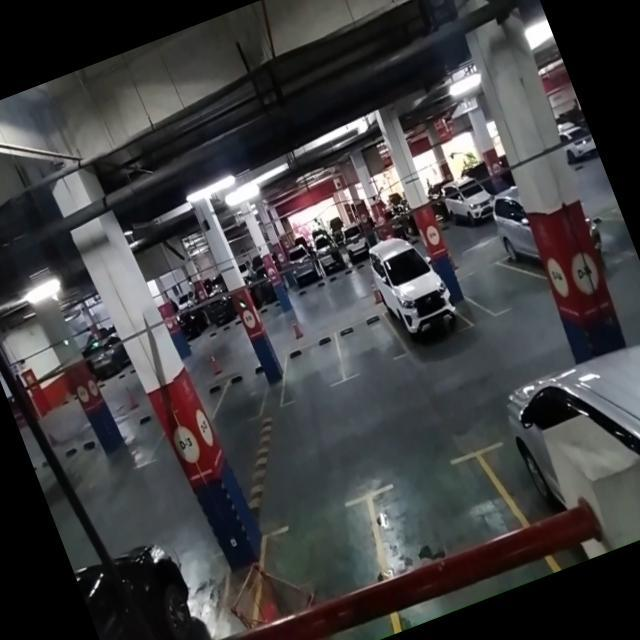empty: (350, 440, 532, 583), (457, 248, 544, 324), (271, 332, 350, 406), (330, 307, 410, 380), (206, 360, 274, 430)
occupied: (379, 264, 473, 358)
